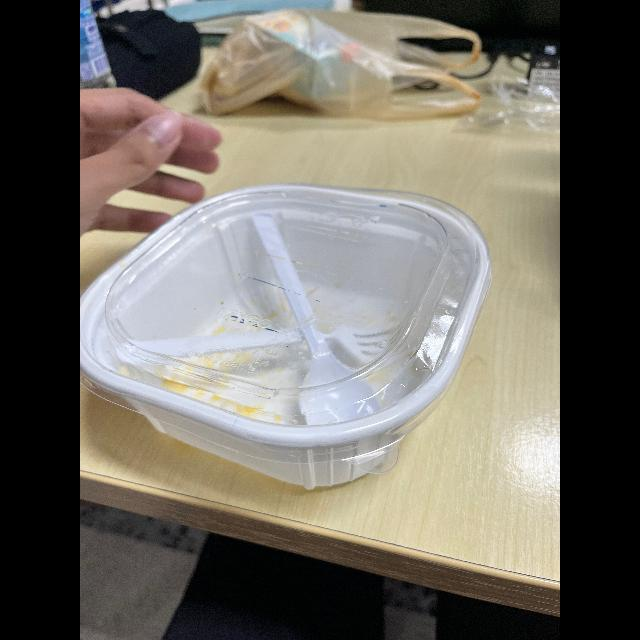plastic_box: (80, 176, 512, 490)
